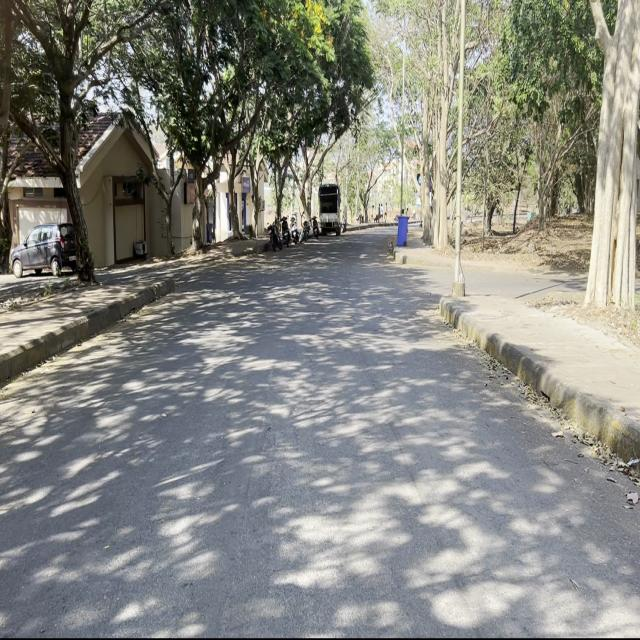Object: (315, 176, 342, 243), (268, 222, 279, 257), (280, 214, 291, 248)
Road: (3, 230, 637, 628)
